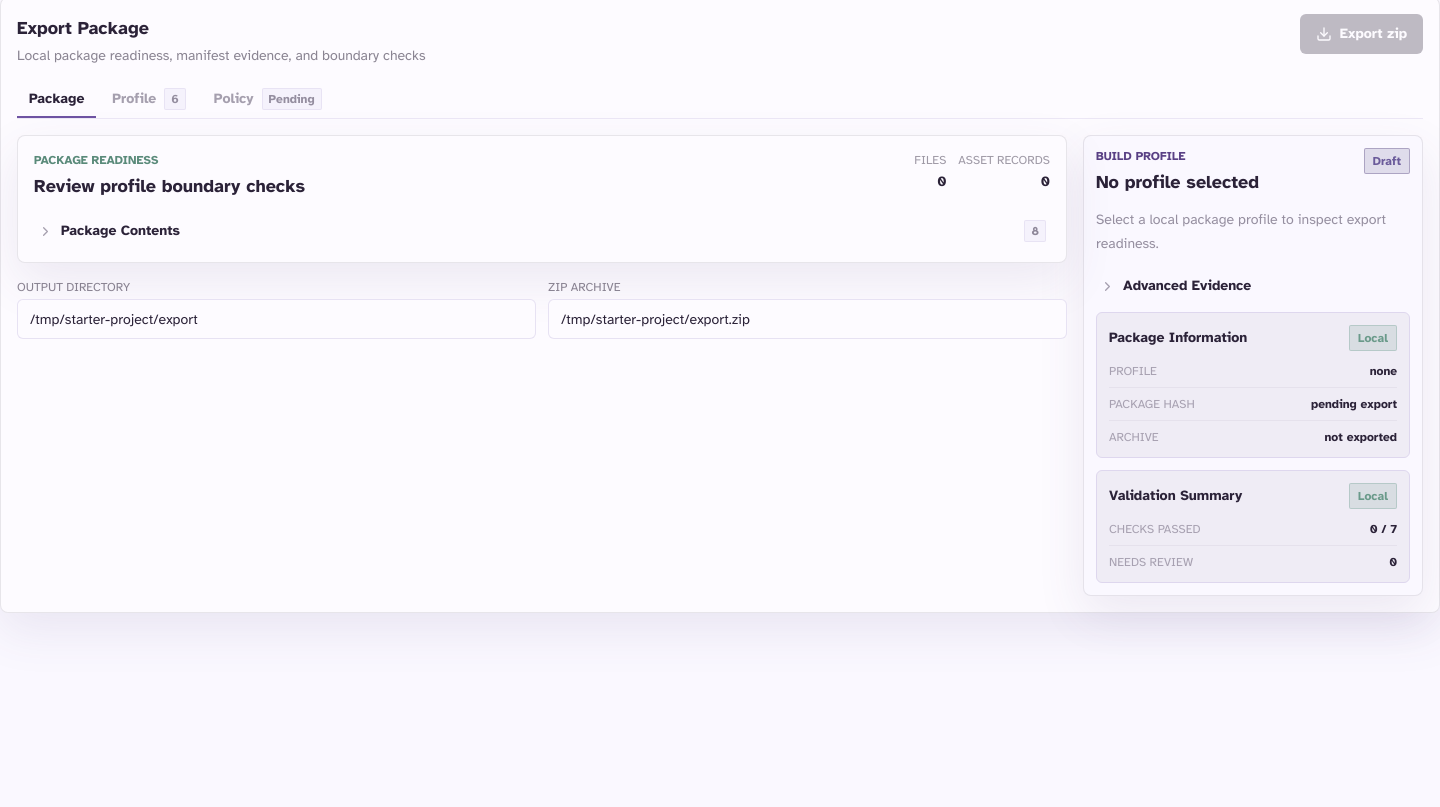
Scenario: ExportView › shows actionable evidence checks inside the Advanced Evidence section
The image size is (1440, 807).
Expected: the text "No provider configuration" is not shown
Click the button "Advanced Evidence": (1253, 286) left=1096, top=272, right=1410, bottom=300
(page scrolled)
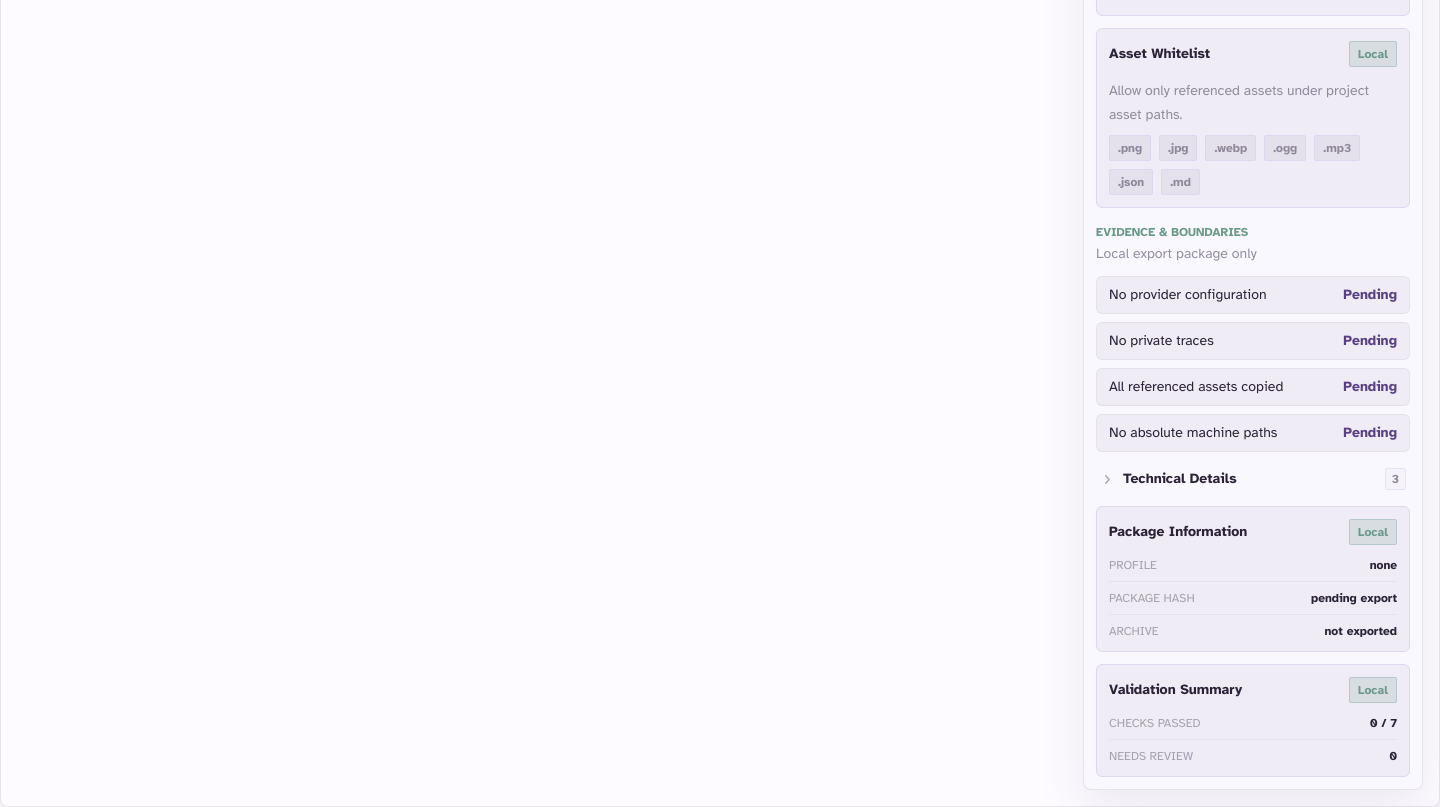
Expected: the text "No provider configuration" is shown, left=1109, top=285, right=1267, bottom=305
Expected: the text "No private traces" is shown, left=1109, top=331, right=1214, bottom=351
Expected: the text "All referenced assets copied" is shown, left=1109, top=377, right=1283, bottom=397
